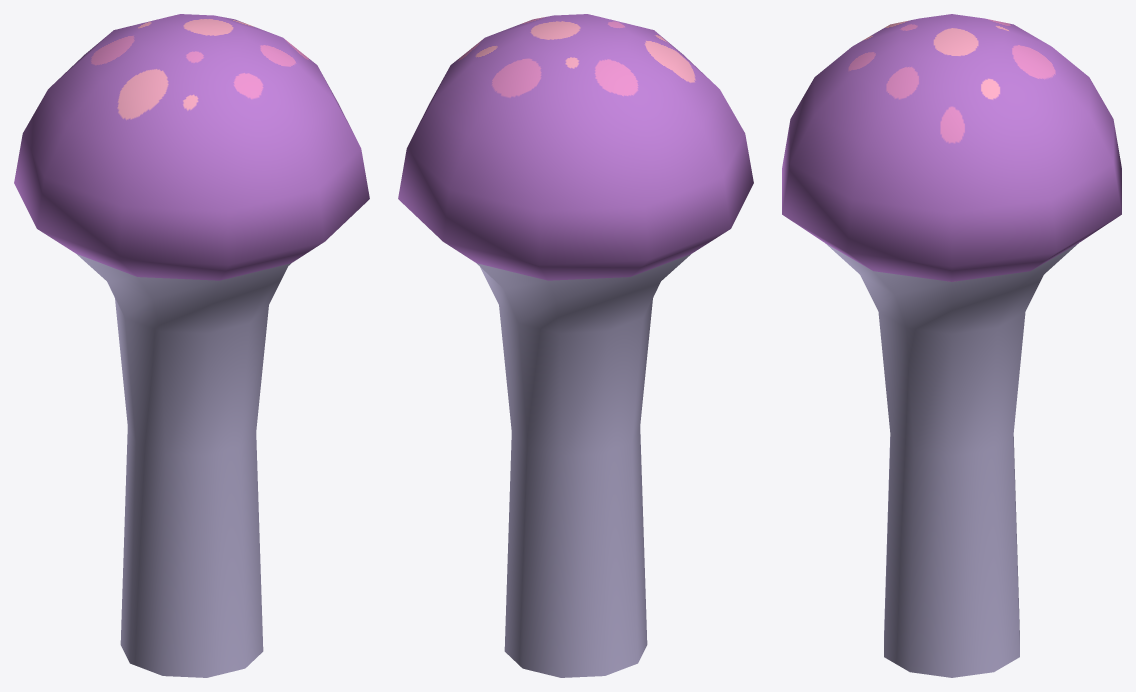
File: mushroom.fbx
3 renders of one model, left to right at view 1: azimuth 30°, elevation 25°; view 2: azimuth 150°, elevation 25°; view 3: azimuth 270°, elevation 25°, orthographic.
Visible parts, largest first — view 1: polySurface3; view 2: polySurface3; view 3: polySurface3.
Boxes of the visible parts, left/top/right/bottom form: polySurface3: left=14, top=14, right=369, bottom=677; polySurface3: left=398, top=14, right=753, bottom=677; polySurface3: left=782, top=14, right=1121, bottom=677.
Bounding box in the file's own units: 6.1 × 11.65 × 5.8.
